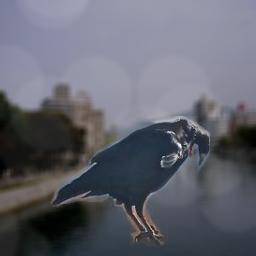Crow: (50, 116, 210, 246)
